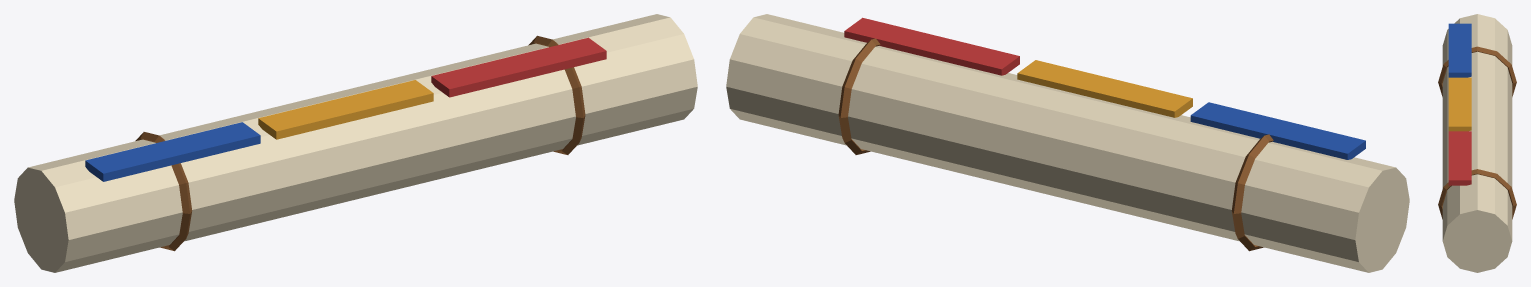
File: carwash_rolled_painting.glb
3 views of the same model, side by side, from view 1: azimuth 30°, elevation 25°; view 2: azimuth 150°, elevation 25°; view 3: azimuth 270°, elevation 25° (orthographic). The views are drawn at different scales.
Visible parts, largest first — view 1: roll_canvas_back, paint, string_canvas_string (×2); view 2: roll_canvas_back, paint, string_canvas_string (×2); view 3: roll_canvas_back, paint, string_canvas_string (×2).
Boxes of the visible parts, left/top/right/bottom form: roll_canvas_back: left=14, top=14, right=697, bottom=272; paint: left=85, top=37, right=606, bottom=181; string_canvas_string (×2): left=135, top=35, right=585, bottom=251; roll_canvas_back: left=726, top=14, right=1409, bottom=272; paint: left=844, top=17, right=1365, bottom=159; string_canvas_string (×2): left=838, top=38, right=1273, bottom=251; roll_canvas_back: left=1442, top=14, right=1512, bottom=272; paint: left=1448, top=23, right=1471, bottom=185; string_canvas_string (×2): left=1438, top=46, right=1516, bottom=219.
Bounding box in the file's own units: 0.8 × 0.136 × 0.136.
